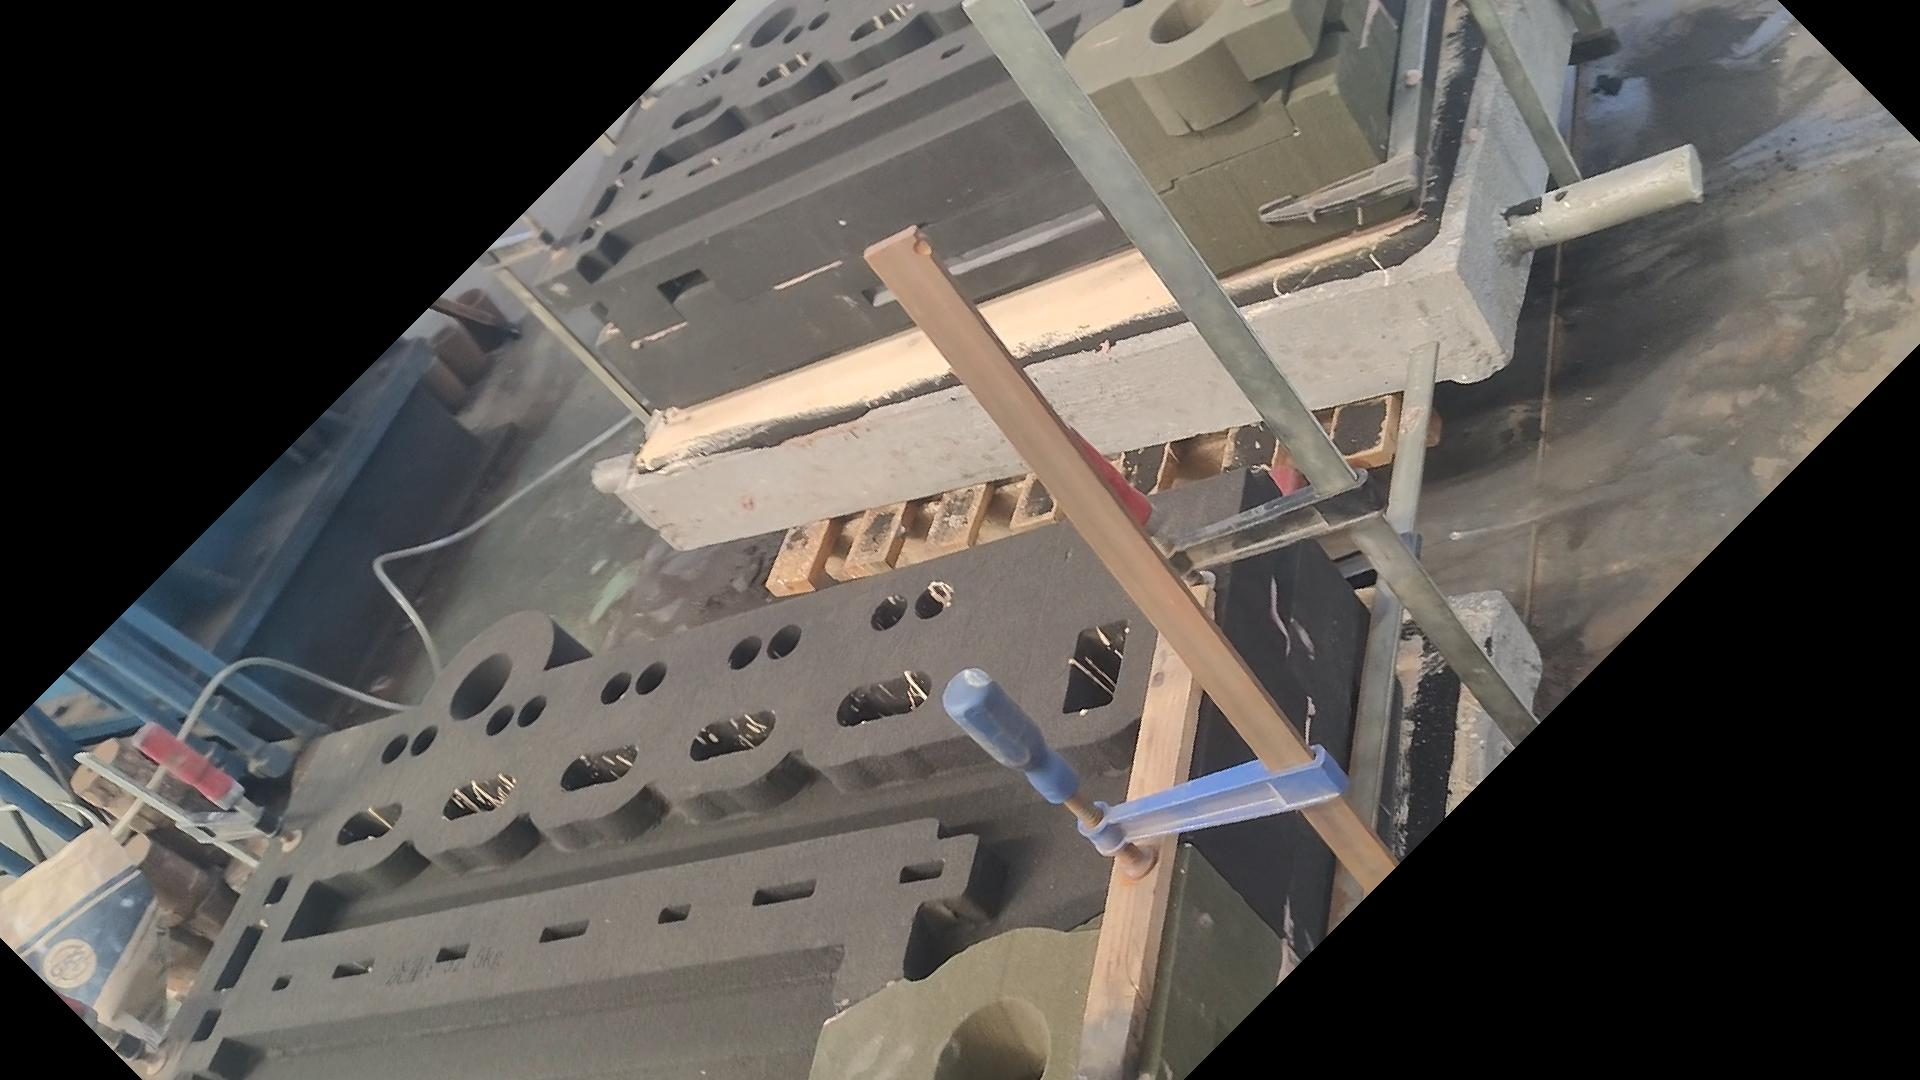pouring hole: (930, 996, 1048, 1080), (448, 651, 513, 721), (1149, 1, 1220, 44), (749, 7, 798, 47), (452, 287, 485, 309), (415, 353, 444, 375), (427, 324, 460, 342), (404, 335, 429, 351)
